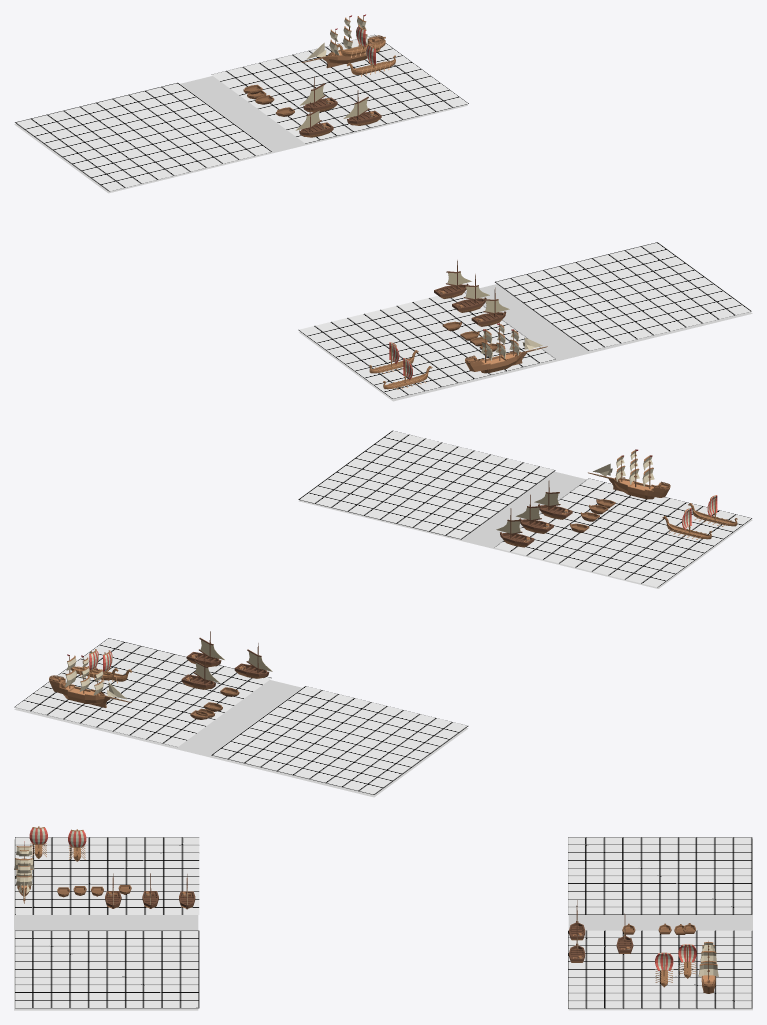
The model's file is arragement.gltf.
3 renders of one model, top to bottom at view 1: azimuth 30°, elevation 25°; view 2: azimuth 150°, elevation 25°; view 3: azimuth 270°, elevation 25°, orthographic. The views are drawn at different scales.
Parts seen in each view (by area): view 1: Plane.001, Plane004, Plane003, Plane.002, intersectPlane, intersectPlane2, FourDeck001, FourDeck; view 2: Plane.001, Plane004, Plane003, Plane.002, intersectPlane, intersectPlane2, FourDeck, FourDeck001, twoDeck3001, twoDeck3, twoDeck30021, twoDeck30011 (+1 smaller); view 3: Plane004, Plane.001, Plane.002, Plane003, intersectPlane2, intersectPlane, FourDeck, FourDeck001, threeDeck1, threeDeck, threeDeck001, threeDeck1001.
Boxes of the visible parts, box(x1,y1,x2,y2) form: Plane.001: box(15, 82, 272, 191); Plane004: box(495, 242, 751, 350); Plane003: box(298, 292, 555, 398); Plane.002: box(211, 34, 468, 143); intersectPlane: box(14, 76, 467, 193); intersectPlane2: box(299, 284, 752, 401); FourDeck001: box(465, 323, 547, 373); FourDeck: box(301, 14, 383, 68); Plane.001: box(211, 686, 468, 794); Plane004: box(298, 430, 555, 539); Plane003: box(494, 478, 751, 587); Plane.002: box(14, 638, 271, 746); intersectPlane: box(14, 680, 468, 797); intersectPlane2: box(298, 471, 752, 588); FourDeck: box(49, 654, 131, 707); FourDeck001: box(588, 449, 670, 499); twoDeck3001: box(181, 654, 219, 689); twoDeck3: box(234, 643, 272, 678); twoDeck30021: box(496, 508, 534, 547); twoDeck30011: box(534, 480, 572, 519); Plane004: box(15, 930, 199, 1008); Plane.001: box(568, 837, 752, 914); Plane.002: box(568, 930, 752, 1008); Plane003: box(15, 837, 199, 914); intersectPlane2: box(14, 839, 198, 1010); intersectPlane: box(568, 839, 752, 1010); FourDeck: box(698, 941, 718, 993); FourDeck001: box(14, 841, 34, 903); threeDeck1: box(655, 952, 673, 987); threeDeck: box(678, 944, 696, 978); threeDeck001: box(68, 829, 86, 861); threeDeck1001: box(29, 826, 47, 858).
Bounding box in the file's own units: 22.02 × 2.88 × 40.1.
72 materials, 2 textured.
